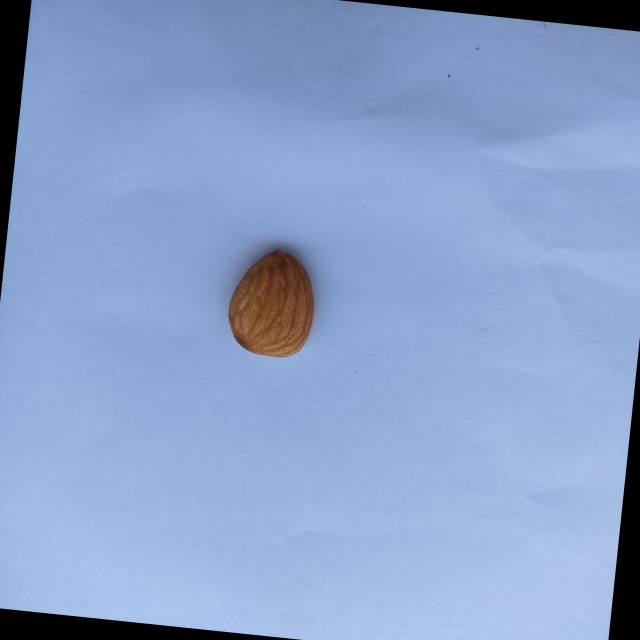grade1: (217, 237, 331, 368)
